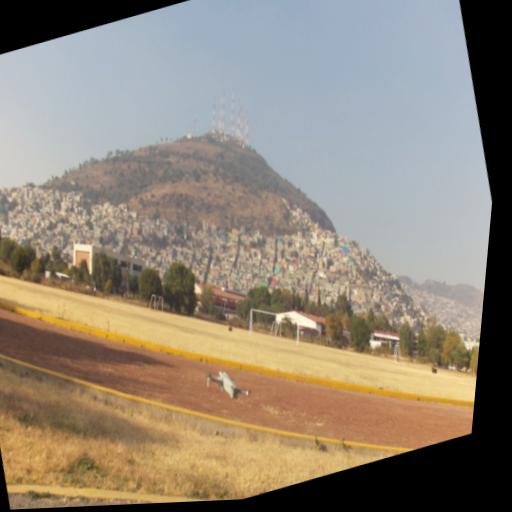drones: (198, 357, 262, 413)
